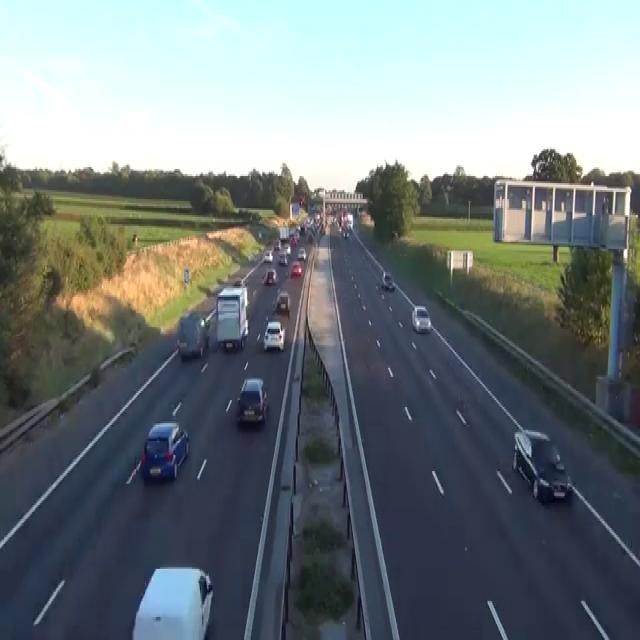Car: (131, 566, 213, 638), (512, 429, 573, 503), (141, 419, 189, 482), (176, 311, 208, 359), (236, 377, 268, 423), (263, 320, 285, 350), (411, 304, 431, 332), (275, 290, 291, 314), (381, 270, 394, 290), (266, 268, 278, 284), (290, 262, 302, 278), (278, 251, 287, 265), (263, 249, 273, 261), (297, 247, 306, 260), (307, 228, 315, 242), (233, 278, 247, 286), (273, 238, 281, 251), (342, 226, 349, 238), (290, 235, 297, 245), (247, 253, 254, 263), (285, 244, 291, 254), (391, 230, 398, 238), (258, 230, 262, 238)
Truck: (215, 284, 248, 350)
